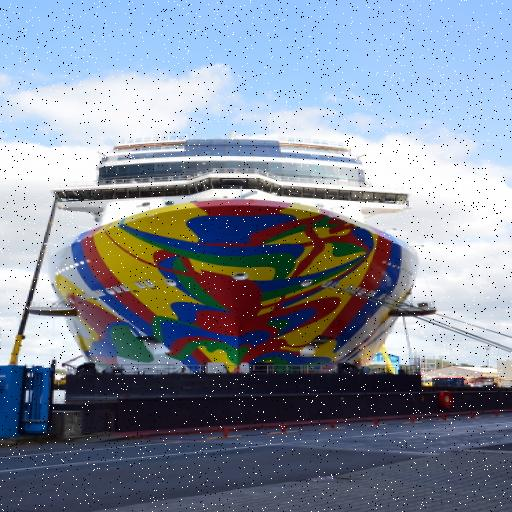cruises: (40, 133, 431, 407)
